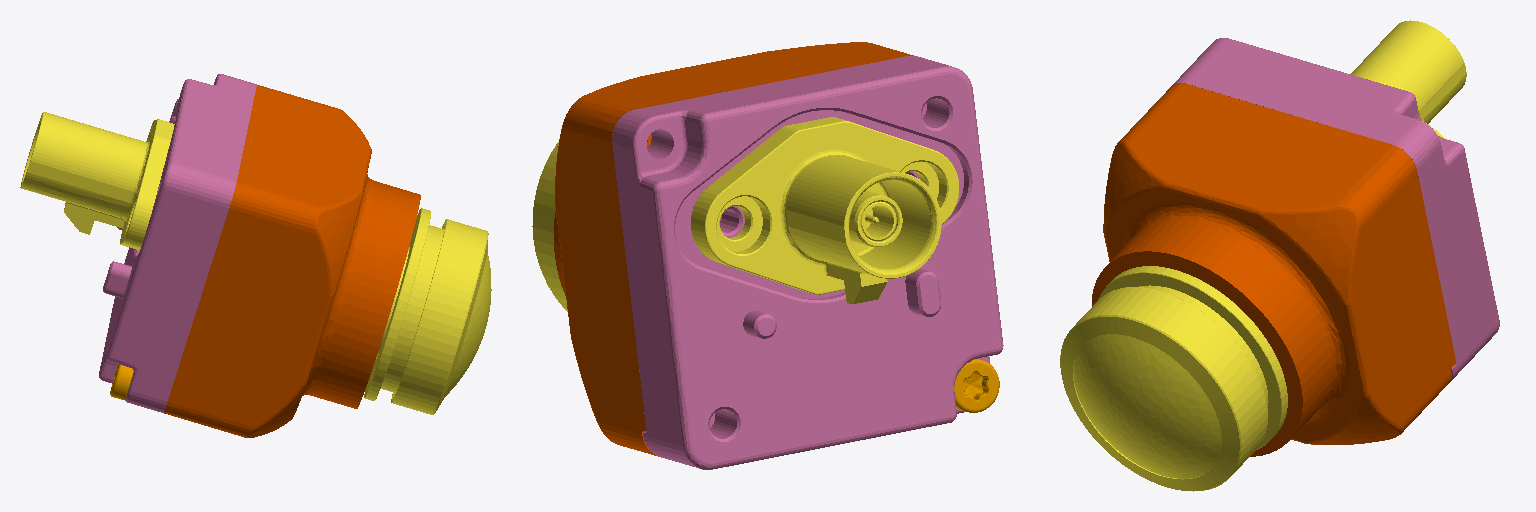
robot.urdf — SG3S_ISX031C_GMSL2F_H190XA:
<?xml version="1.0"?>
<!-- Generated by usd2urdf.py from SG3S-ISX031C-GMSL2F-H190XA.calibrated.acceptance.usd -->
<!-- metersPerUnit=0.01 upAxis=Z -->
<robot name="SG3S_ISX031C_GMSL2F_H190XA">
  <link name="base_link">
  </link>
  <link name="Root">
  </link>
  <link name="SG3S_ISX031C_GMSL2F_H190XA">
  </link>
  <link name="lens">
    <visual>
      <origin xyz="0 0 0" rpy="0 0 0"/>
      <geometry>
        <mesh filename="meshes/Mesh.stl"/>
      </geometry>
    </visual>
    <collision>
      <origin xyz="0 0 0" rpy="0 0 0"/>
      <geometry>
        <mesh filename="meshes/Mesh.stl"/>
      </geometry>
    </collision>
    <inertial>
      <origin xyz="0 0 0" rpy="0 0 0"/>
      <mass value="0.15"/>
      <inertia ixx="0.000864900041" ixy="0" ixz="0" iyy="0.000744377457" iyz="0" izz="0.000744377457"/>
    </inertial>
  </link>
  <link name="SG3S_ISX031C_GMSL2F_H190XA_1">
  </link>
  <link name="top">
    <visual>
      <origin xyz="0 0 0" rpy="0 0 0"/>
      <geometry>
        <mesh filename="meshes/Mesh_1.stl"/>
      </geometry>
    </visual>
    <collision>
      <origin xyz="0 0 0" rpy="0 0 0"/>
      <geometry>
        <mesh filename="meshes/Mesh_1.stl"/>
      </geometry>
    </collision>
    <inertial>
      <origin xyz="0 0 0" rpy="0 0 0"/>
      <mass value="0.15"/>
      <inertia ixx="0.00206472084" ixy="0" ixz="0" iyy="0.00203646788" iyz="0" izz="0.00225128614"/>
    </inertial>
  </link>
  <link name="bottom">
    <visual>
      <origin xyz="0 0 0" rpy="0 0 0"/>
      <geometry>
        <mesh filename="meshes/Mesh_2.stl"/>
      </geometry>
    </visual>
    <collision>
      <origin xyz="0 0 0" rpy="0 0 0"/>
      <geometry>
        <mesh filename="meshes/Mesh_2.stl"/>
      </geometry>
    </collision>
    <inertial>
      <origin xyz="0 0 0" rpy="0 0 0"/>
      <mass value="0.15"/>
      <inertia ixx="0.000891700048" ixy="0" ixz="0" iyy="0.0015625" iyz="0" izz="0.000891699955"/>
    </inertial>
  </link>
  <link name="screw">
    <visual>
      <origin xyz="0 0 0" rpy="0 0 0"/>
      <geometry>
        <mesh filename="meshes/Mesh_3.stl"/>
      </geometry>
    </visual>
    <collision>
      <origin xyz="0 0 0" rpy="0 0 0"/>
      <geometry>
        <mesh filename="meshes/Mesh_3.stl"/>
      </geometry>
    </collision>
    <inertial>
      <origin xyz="0 0 0" rpy="0 0 0"/>
      <mass value="0.15"/>
      <inertia ixx="6.48125786e-05" ixy="0" ixz="0" iyy="8.36089399e-05" iyz="0" izz="9.22446129e-05"/>
    </inertial>
  </link>
  <link name="screw_01">
    <visual>
      <origin xyz="0 0 0" rpy="0 0 0"/>
      <geometry>
        <mesh filename="meshes/Mesh_4.stl"/>
      </geometry>
    </visual>
    <collision>
      <origin xyz="0 0 0" rpy="0 0 0"/>
      <geometry>
        <mesh filename="meshes/Mesh_4.stl"/>
      </geometry>
    </collision>
    <inertial>
      <origin xyz="0 0 0" rpy="0 0 0"/>
      <mass value="0.15"/>
      <inertia ixx="6.48125786e-05" ixy="0" ixz="0" iyy="8.36089399e-05" iyz="0" izz="9.22446129e-05"/>
    </inertial>
  </link>
  <link name="screw_02">
    <visual>
      <origin xyz="0 0 0" rpy="0 0 0"/>
      <geometry>
        <mesh filename="meshes/Mesh_5.stl"/>
      </geometry>
    </visual>
    <collision>
      <origin xyz="0 0 0" rpy="0 0 0"/>
      <geometry>
        <mesh filename="meshes/Mesh_5.stl"/>
      </geometry>
    </collision>
    <inertial>
      <origin xyz="0 0 0" rpy="0 0 0"/>
      <mass value="0.15"/>
      <inertia ixx="6.48125786e-05" ixy="0" ixz="0" iyy="8.36089399e-05" iyz="0" izz="9.22446129e-05"/>
    </inertial>
  </link>
  <link name="screw_03">
    <visual>
      <origin xyz="0 0 0" rpy="0 0 0"/>
      <geometry>
        <mesh filename="meshes/Mesh_6.stl"/>
      </geometry>
    </visual>
    <collision>
      <origin xyz="0 0 0" rpy="0 0 0"/>
      <geometry>
        <mesh filename="meshes/Mesh_6.stl"/>
      </geometry>
    </collision>
    <inertial>
      <origin xyz="0 0 0" rpy="0 0 0"/>
      <mass value="0.15"/>
      <inertia ixx="6.48125786e-05" ixy="0" ixz="0" iyy="8.36089399e-05" iyz="0" izz="9.22446129e-05"/>
    </inertial>
  </link>
  <link name="fakra">
    <visual>
      <origin xyz="0 0 0" rpy="0 0 0"/>
      <geometry>
        <mesh filename="meshes/Mesh_7.stl"/>
      </geometry>
    </visual>
    <collision>
      <origin xyz="0 0 0" rpy="0 0 0"/>
      <geometry>
        <mesh filename="meshes/Mesh_7.stl"/>
      </geometry>
    </collision>
    <inertial>
      <origin xyz="0 0 0" rpy="0 0 0"/>
      <mass value="0.15"/>
      <inertia ixx="0.000664724523" ixy="0" ixz="0" iyy="0.000589528154" iyz="0" izz="0.000885196425"/>
    </inertial>
  </link>
  <link name="sg3s_isx031c_gmsl2f_h190xa_lens">
  </link>
  <joint name="base_link_to_Root" type="fixed">
    <parent link="base_link"/>
    <child link="Root"/>
    <origin xyz="0 0 0" rpy="0 0 0"/>
  </joint>
  <joint name="Root_to_SG3S_ISX031C_GMSL2F_H190XA" type="fixed">
    <parent link="Root"/>
    <child link="SG3S_ISX031C_GMSL2F_H190XA"/>
    <origin xyz="0 0 0" rpy="0 0 0"/>
  </joint>
  <joint name="SG3S_ISX031C_GMSL2F_H190XA_to_lens" type="fixed">
    <parent link="SG3S_ISX031C_GMSL2F_H190XA"/>
    <child link="lens"/>
    <origin xyz="-10.4370018 -12.507517 5.26151186" rpy="-0.000112376437 -0.279252691 2.53072736"/>
  </joint>
  <joint name="lens_to_SG3S_ISX031C_GMSL2F_H190XA_1" type="fixed">
    <parent link="lens"/>
    <child link="SG3S_ISX031C_GMSL2F_H190XA_1"/>
    <origin xyz="0 0 0" rpy="1.57079633 0 1.57079633"/>
  </joint>
  <joint name="SG3S_ISX031C_GMSL2F_H190XA_to_top" type="fixed">
    <parent link="SG3S_ISX031C_GMSL2F_H190XA"/>
    <child link="top"/>
    <origin xyz="0.000721864274 0.000144284735 0.00177354468" rpy="8.90343655e-05 -6.23407621e-05 -3.11688504e-05"/>
  </joint>
  <joint name="SG3S_ISX031C_GMSL2F_H190XA_to_bottom" type="fixed">
    <parent link="SG3S_ISX031C_GMSL2F_H190XA"/>
    <child link="bottom"/>
    <origin xyz="-10.6977395 -12.3610843 5.33179352" rpy="-2.86233996 -2.56372701e-11 0.959931036"/>
  </joint>
  <joint name="SG3S_ISX031C_GMSL2F_H190XA_to_screw" type="fixed">
    <parent link="SG3S_ISX031C_GMSL2F_H190XA"/>
    <child link="screw"/>
    <origin xyz="-18.7351197 -11.2862155 -7.08387955" rpy="-0.033588191 -0.0562814106 -0.0724113617"/>
  </joint>
  <joint name="SG3S_ISX031C_GMSL2F_H190XA_to_screw_01" type="fixed">
    <parent link="SG3S_ISX031C_GMSL2F_H190XA"/>
    <child link="screw_01"/>
    <origin xyz="-18.9029864 -11.4250366 -7.28574451" rpy="-0.033588191 -0.0562814106 -0.0724113617"/>
  </joint>
  <joint name="SG3S_ISX031C_GMSL2F_H190XA_to_screw_02" type="fixed">
    <parent link="SG3S_ISX031C_GMSL2F_H190XA"/>
    <child link="screw_02"/>
    <origin xyz="-18.8721931 -11.4014299 -7.13253028" rpy="-0.033588191 -0.0562814106 -0.0724113617"/>
  </joint>
  <joint name="SG3S_ISX031C_GMSL2F_H190XA_to_screw_03" type="fixed">
    <parent link="SG3S_ISX031C_GMSL2F_H190XA"/>
    <child link="screw_03"/>
    <origin xyz="-18.7941867 -11.2900253 -7.13253028" rpy="-0.033588191 -0.0562814106 -0.0724113617"/>
  </joint>
  <joint name="SG3S_ISX031C_GMSL2F_H190XA_to_fakra" type="fixed">
    <parent link="SG3S_ISX031C_GMSL2F_H190XA"/>
    <child link="fakra"/>
    <origin xyz="-10.779121 -12.2681412 5.42856497" rpy="3.14159265 -0.279252691 2.53072736"/>
  </joint>
  <joint name="SG3S_ISX031C_GMSL2F_H190XA_to_sg3s_isx031c_gmsl2f_h190xa_lens" type="fixed">
    <parent link="SG3S_ISX031C_GMSL2F_H190XA"/>
    <child link="sg3s_isx031c_gmsl2f_h190xa_lens"/>
    <origin xyz="-10.4370018 -12.507517 5.26151186" rpy="-1.85004902 0.000108023164 -2.18169259"/>
  </joint>
</robot>

--- Render facts (derived) ---
3 views of the same robot in one strip: view 1: azimuth 30°, elevation 25°; view 2: azimuth 150°, elevation 25°; view 3: azimuth 270°, elevation 25° (orthographic).
Robot: SG3S_ISX031C_GMSL2F_H190XA — 13 links, 12 joints (12 fixed); root link base_link; default pose: every joint at zero.
Visible links, largest first — view 1: top, bottom, lens, fakra, screw_01; view 2: bottom, fakra, top, lens, screw_01; view 3: top, lens, bottom, fakra.
Link boxes in pixels (x1,y1,x2,y2): top: (164,85,420,437); bottom: (99,74,256,412); lens: (364,208,491,414); fakra: (20,112,174,249); screw_01: (110,364,133,399); bottom: (612,56,1003,469); fakra: (691,117,958,303); top: (554,42,913,456); lens: (532,142,567,311); screw_01: (954,359,999,412); top: (1092,83,1455,456); lens: (1060,266,1287,491); bottom: (1174,38,1499,380); fakra: (1351,20,1466,138).
Size in the robot's own frame: 0.4078 by 0.3638 by 0.2911 metres.
5 mesh visuals loaded from 8 distinct referenced files (5 binary STL); not drawn: 3 (reference not matched to a file when rendering).
